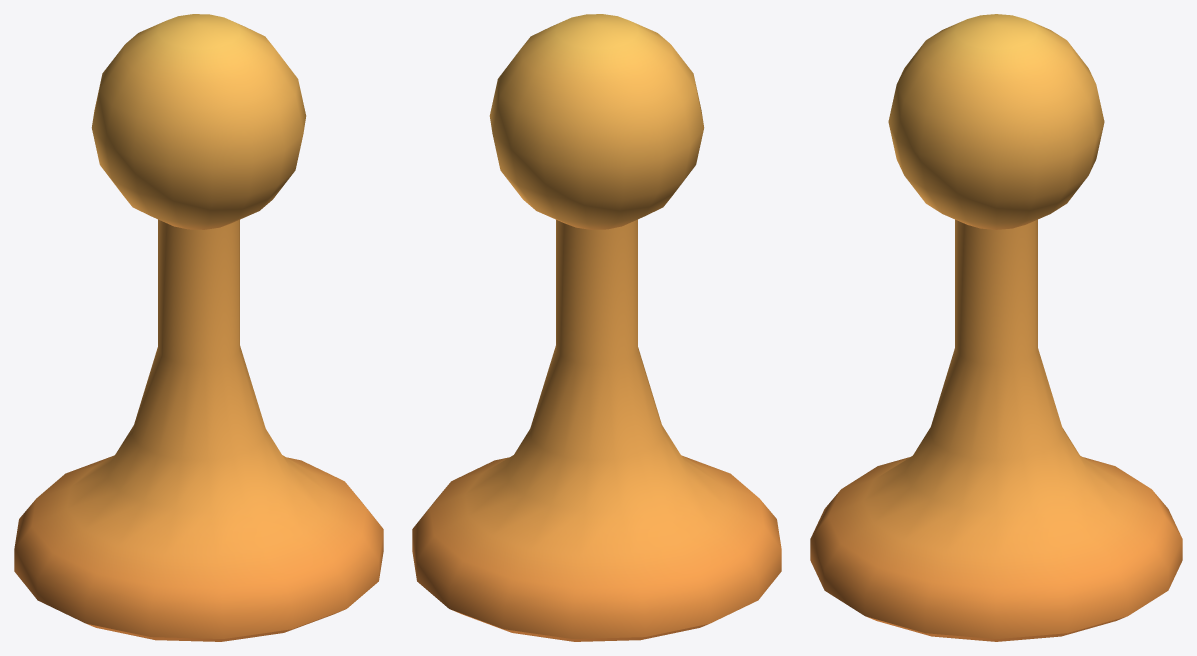
File: pawn-b-yellow.glb
The picture shows the model from 3 angles, left to right: view 1: azimuth 30°, elevation 25°; view 2: azimuth 150°, elevation 25°; view 3: azimuth 270°, elevation 25°; orthographic projection.
Parts seen in each view (by area): view 1: pawn_B_yellow; view 2: pawn_B_yellow; view 3: pawn_B_yellow.
Boxes of the visible parts, x1,y1,x2,y2 form: pawn_B_yellow: (14,14,383,641); pawn_B_yellow: (412,14,781,641); pawn_B_yellow: (810,14,1182,641).
Bounding box in the file's own units: 0.75 × 1.21 × 0.75.
Materials: 1 (1 with a texture image).
